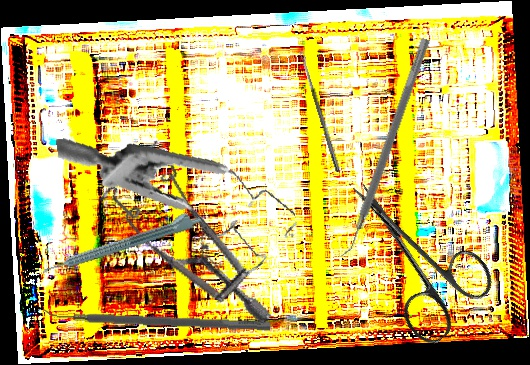Handpiece: (39, 206, 206, 277)
Iris Scissors: (317, 154, 505, 351)
Spatula Surgical: (335, 34, 431, 262), (43, 303, 271, 331)
Speculum: (55, 104, 304, 301), (76, 127, 315, 327)
Surgical Spoon: (299, 50, 341, 173)
